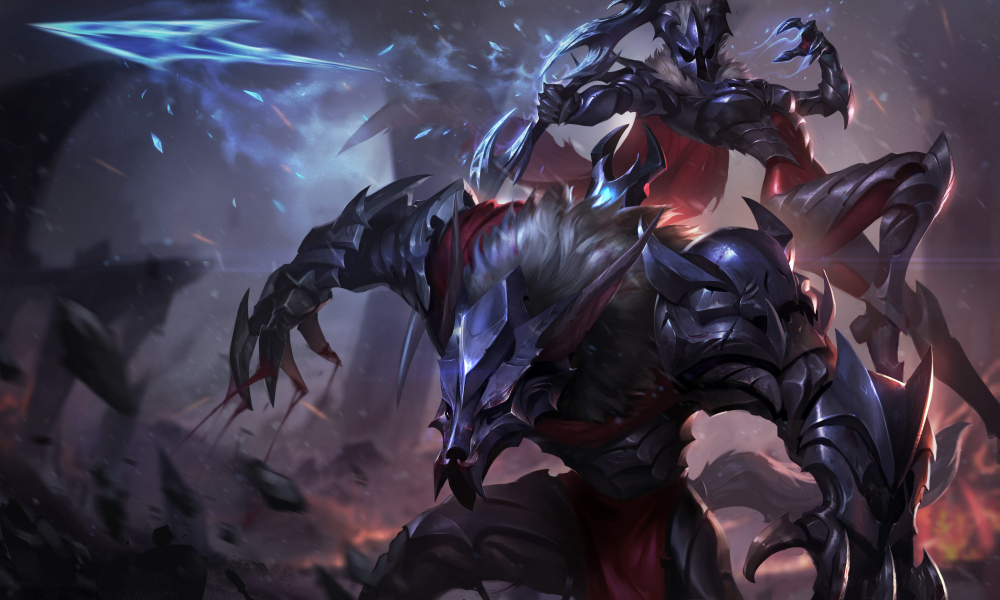face: (392, 203, 656, 506), (638, 1, 753, 99)
